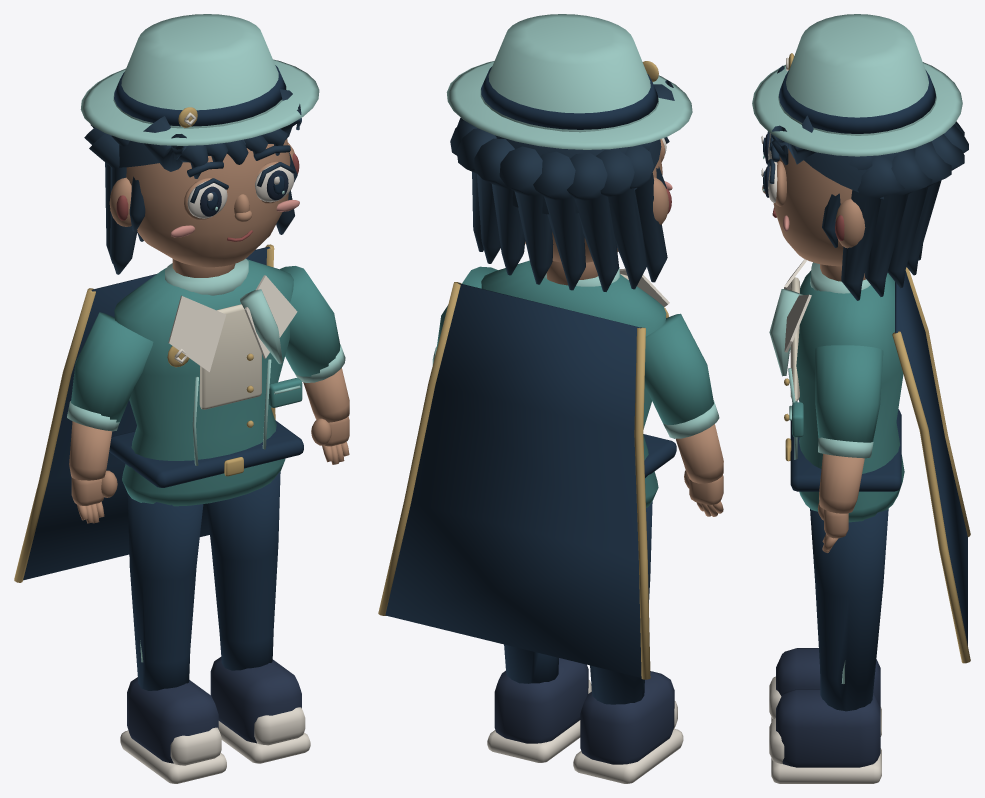
Rendered from elite_tide_hunter.glb.
3 renders of one model, left to right at view 1: azimuth 30°, elevation 25°; view 2: azimuth 150°, elevation 25°; view 3: azimuth 270°, elevation 25°, orthographic. The views are drawn at different scales.
Parts seen in each view (by area): view 1: figure.019; view 2: figure.019; view 3: figure.019.
Boxes of the visible parts, box(x1,y1,x2,y2) form: figure.019: box(14, 14, 349, 783); figure.019: box(378, 14, 723, 783); figure.019: box(752, 14, 970, 783).
Bounding box in the file's own units: 1.08 × 2.63 × 0.7295.
